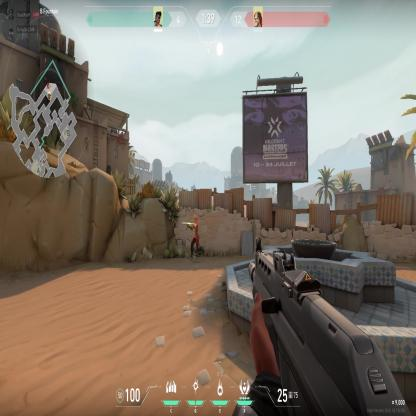enemy: (186, 214, 206, 262)
